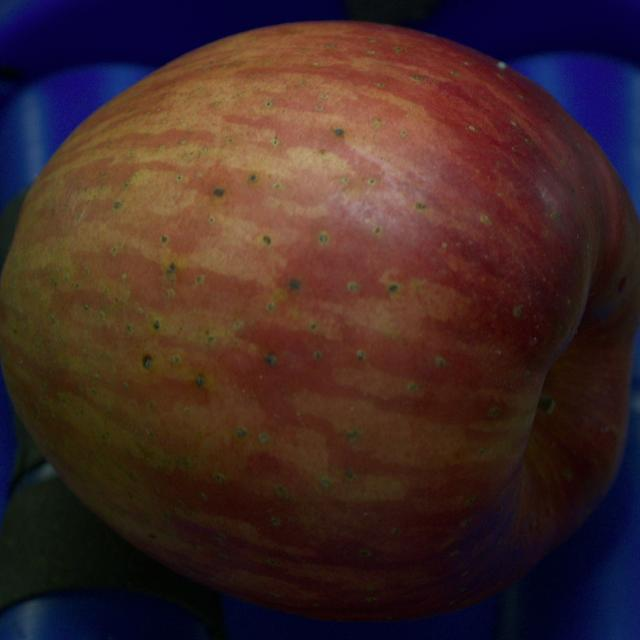apple: (0, 22, 639, 619)
pest: (265, 352, 277, 366), (142, 355, 152, 369), (289, 279, 301, 289), (618, 277, 626, 292), (196, 375, 204, 386), (388, 284, 398, 292), (215, 188, 223, 196), (336, 129, 343, 134)
